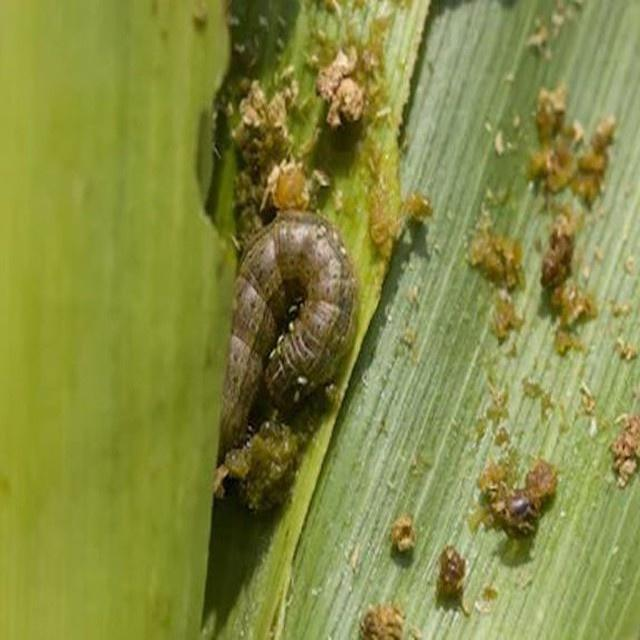Plaga: (219, 214, 359, 481)
